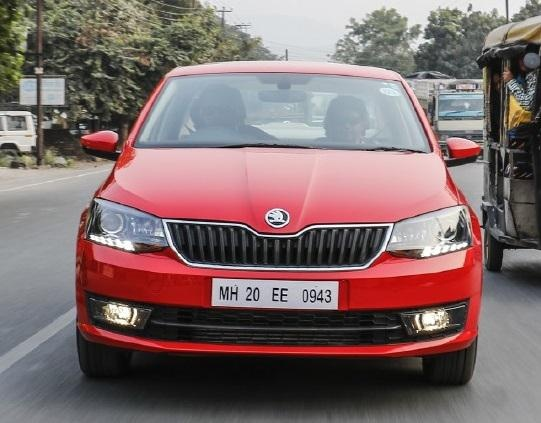number_plate: (213, 280, 339, 307)
